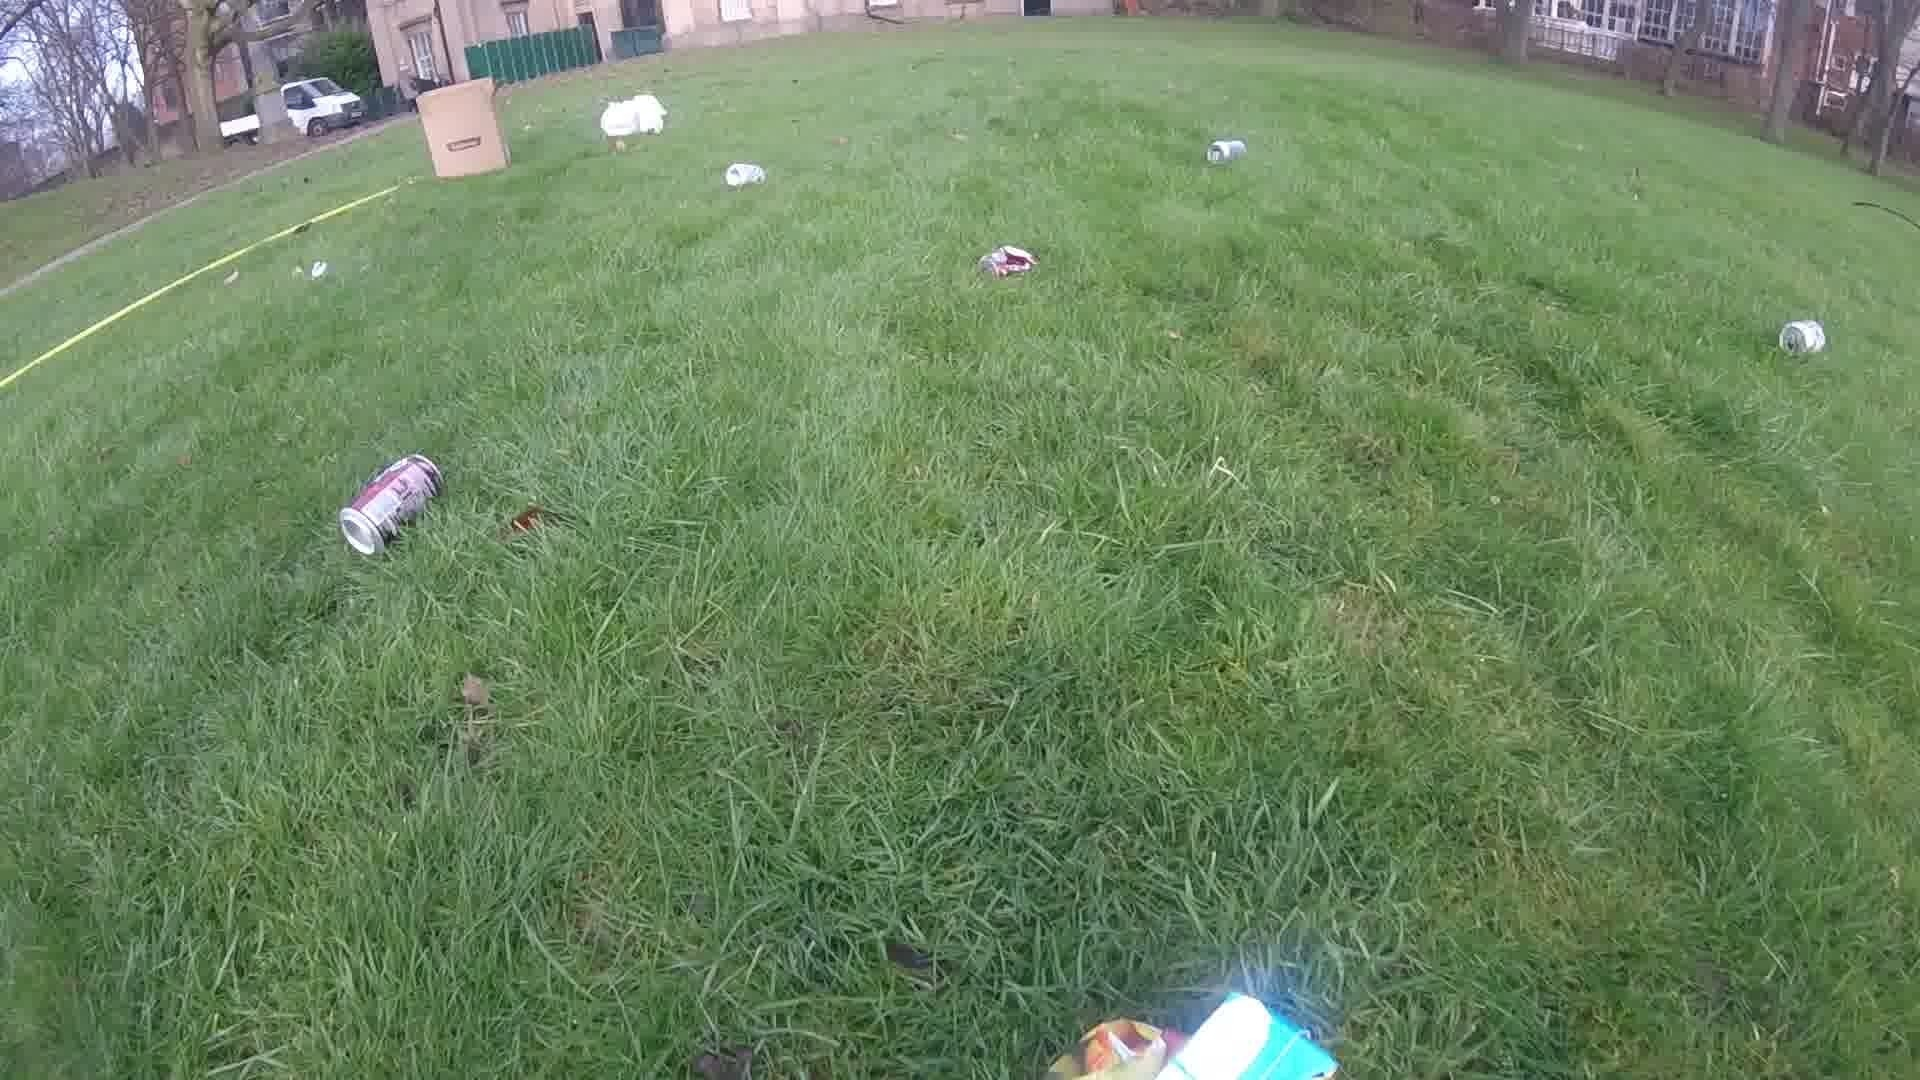litter: (1036, 989, 1342, 1080), (338, 454, 443, 555), (413, 78, 510, 177), (600, 91, 665, 140), (978, 245, 1029, 278), (1779, 320, 1824, 356), (1204, 137, 1244, 165), (725, 161, 764, 189), (309, 260, 326, 280)
